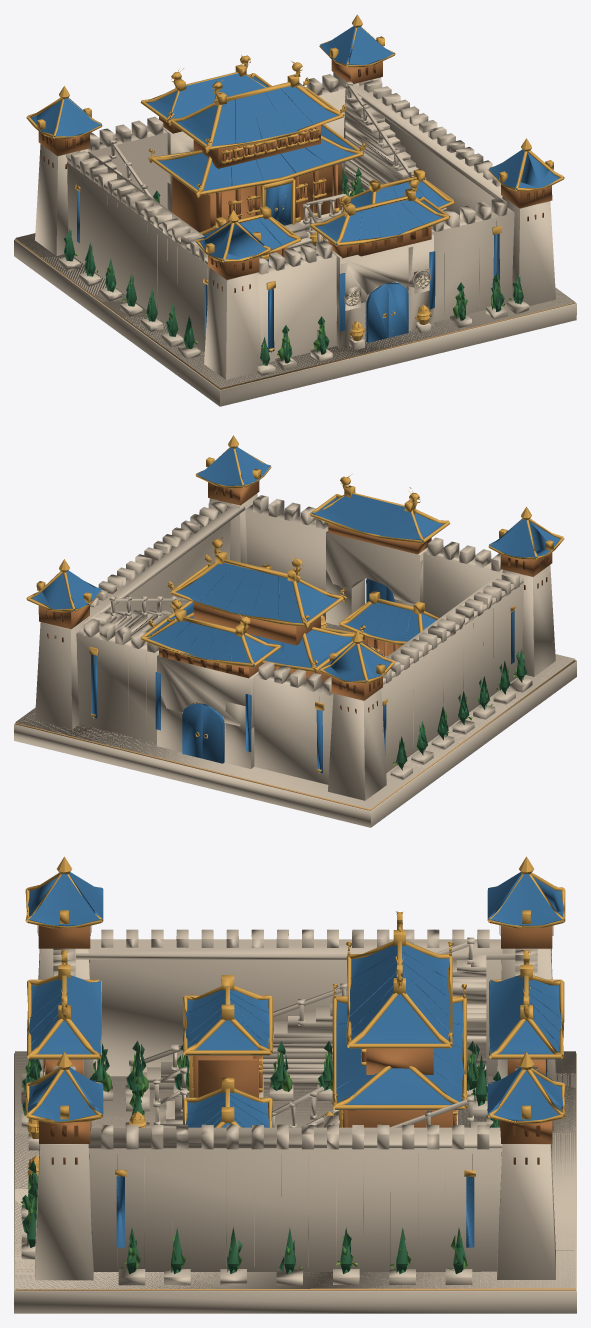
File: city-4-lod2-f756b889e8b4.glb
3 views of the same model, one above another, from view 1: azimuth 30°, elevation 25°; view 2: azimuth 150°, elevation 25°; view 3: azimuth 270°, elevation 25° (orthographic). The views are drawn at different scales.
Visible parts, largest first — view 1: SM_CT4_V4_Batch_106.003, SM_CT4_V4_Batch_9.003, SM_CT4_V4_Batch_105.003, SM_CT4_V4_Batch_7.003, SM_CT4_V4_Batch_102.003, SM_CT4_V4_Batch_1.003, SM_CT4_V4_Batch_8.003, SM_CT4_V4_Batch_103.003, SM_CT4_V4_Batch_5.003, SM_CT4_V4_Batch_98.003; view 2: SM_CT4_V4_Batch_106.003, SM_CT4_V4_Batch_9.003, SM_CT4_V4_Batch_105.003, SM_CT4_V4_Batch_7.003, SM_CT4_V4_Batch_102.003, SM_CT4_V4_Batch_1.003, SM_CT4_V4_Batch_8.003, SM_CT4_V4_Batch_98.003; view 3: SM_CT4_V4_Batch_106.003, SM_CT4_V4_Batch_9.003, SM_CT4_V4_Batch_105.003, SM_CT4_V4_Batch_7.003, SM_CT4_V4_Batch_102.003, SM_CT4_V4_Batch_103.003, SM_CT4_V4_Batch_98.003, SM_CT4_V4_Batch_1.003, SM_CT4_V4_Batch_5.003, SM_CT4_V4_Batch_8.003.
Part boxes in pixels (box(x1,y1,x2,y2)): SM_CT4_V4_Batch_106.003: box(14, 72, 576, 406); SM_CT4_V4_Batch_9.003: box(30, 26, 559, 352); SM_CT4_V4_Batch_105.003: box(26, 14, 564, 352); SM_CT4_V4_Batch_7.003: box(38, 60, 552, 279); SM_CT4_V4_Batch_102.003: box(64, 167, 523, 365); SM_CT4_V4_Batch_1.003: box(15, 239, 575, 389); SM_CT4_V4_Batch_8.003: box(42, 58, 544, 292); SM_CT4_V4_Batch_103.003: box(65, 167, 521, 361); SM_CT4_V4_Batch_5.003: box(67, 166, 496, 315); SM_CT4_V4_Batch_98.003: box(231, 88, 428, 244); SM_CT4_V4_Batch_106.003: box(14, 493, 576, 827); SM_CT4_V4_Batch_9.003: box(31, 447, 559, 773); SM_CT4_V4_Batch_105.003: box(26, 435, 564, 773); SM_CT4_V4_Batch_7.003: box(38, 481, 552, 700); SM_CT4_V4_Batch_102.003: box(396, 649, 526, 770); SM_CT4_V4_Batch_1.003: box(15, 660, 575, 810); SM_CT4_V4_Batch_8.003: box(46, 486, 548, 713); SM_CT4_V4_Batch_98.003: box(166, 565, 410, 663); SM_CT4_V4_Batch_106.003: box(14, 929, 576, 1313); SM_CT4_V4_Batch_9.003: box(27, 872, 563, 1247); SM_CT4_V4_Batch_105.003: box(25, 856, 565, 1177); SM_CT4_V4_Batch_7.003: box(38, 925, 552, 1143); SM_CT4_V4_Batch_102.003: box(22, 1040, 500, 1274); SM_CT4_V4_Batch_103.003: box(25, 1048, 498, 1269); SM_CT4_V4_Batch_98.003: box(29, 951, 561, 1127); SM_CT4_V4_Batch_1.003: box(15, 1288, 575, 1290); SM_CT4_V4_Batch_5.003: box(43, 1065, 573, 1266); SM_CT4_V4_Batch_8.003: box(37, 914, 553, 1164).
Size of the model in its own units: 9.99 by 5.12 by 9.99.
12 materials, 4 textured.
